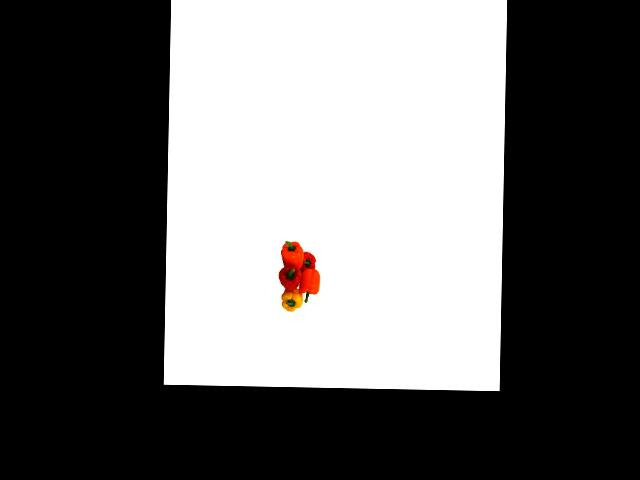bell_pepper: (278, 235, 306, 270)
